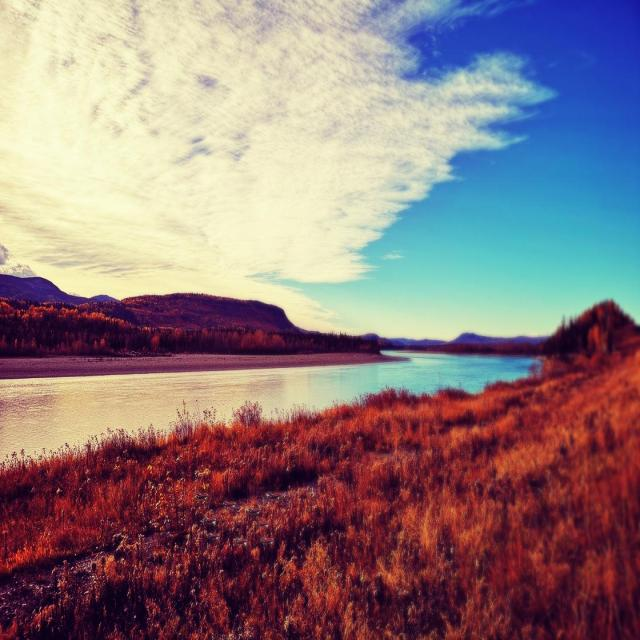airplane: (260, 535, 276, 549), (245, 504, 262, 516), (194, 490, 210, 502), (263, 492, 284, 501), (220, 499, 236, 509), (234, 538, 249, 548), (207, 532, 221, 542), (204, 516, 218, 526), (256, 521, 270, 528)
